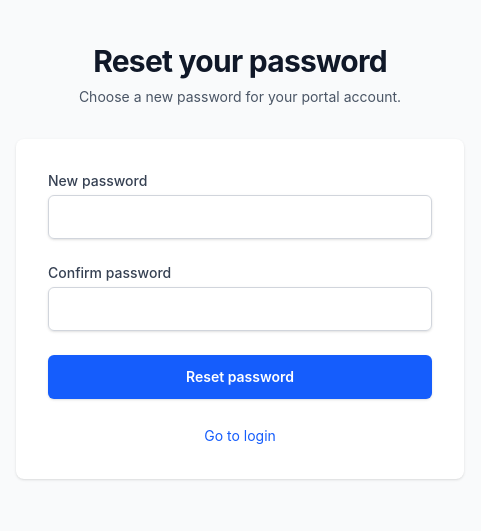
Test: ResetPasswordPage › shows error on expired token
Type "Str0ng!Pass" into the password field labelled "New password" at (240, 217), box [48,195,432,239]
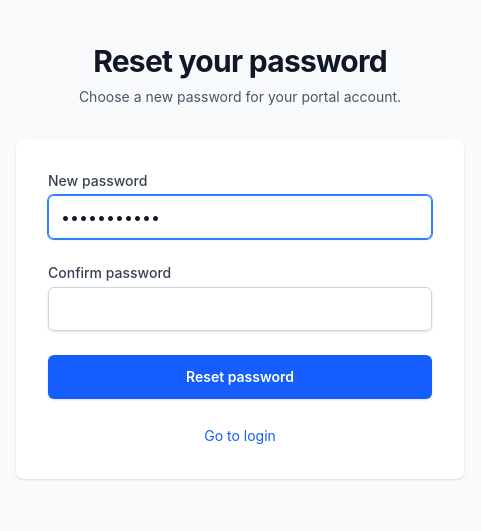
Type "Str0ng!Pass" into the password field labelled "Confirm password" at (240, 309), box [48,287,432,331]
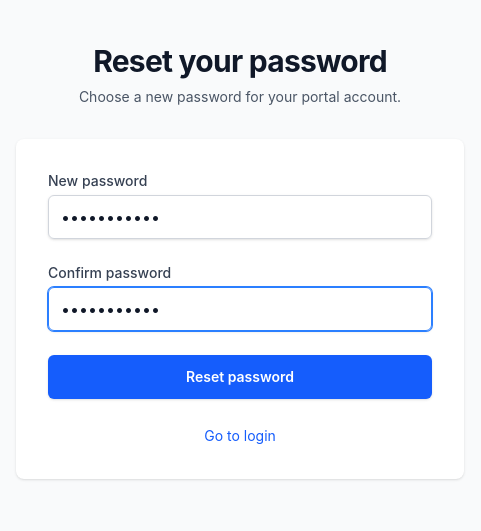
Click the button "Reset password" at (240, 377), box [48,355,432,399]
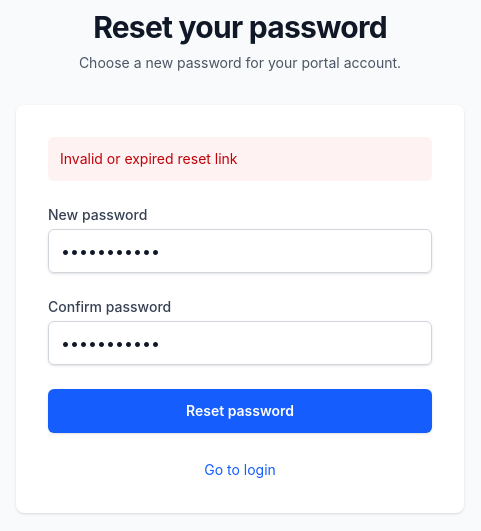
Expected: the message shows "expired", [60,150,238,167]
